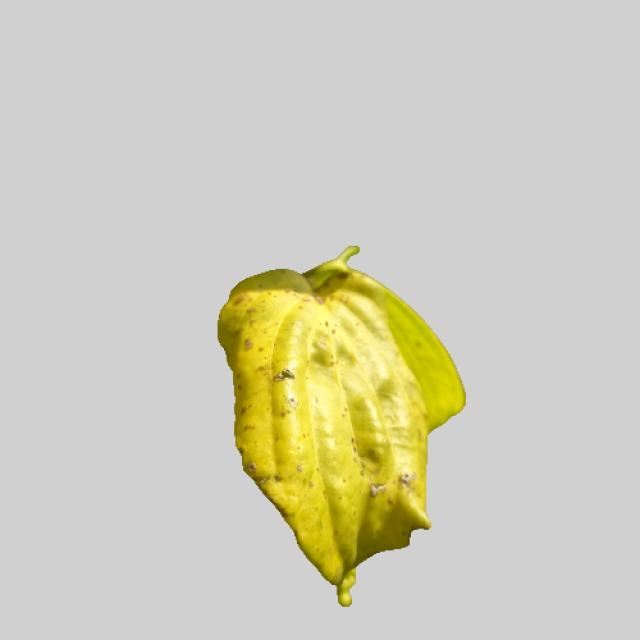yellow-mottle-virus: (195, 242, 467, 607)
